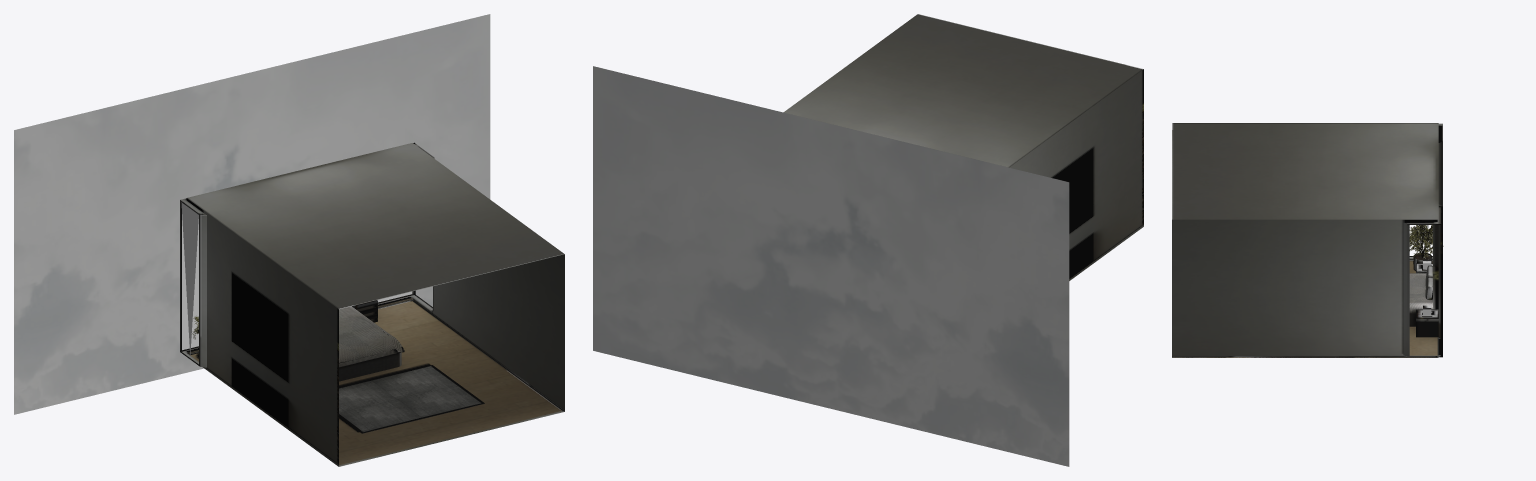
The model's file is int_bedroom_minimal.fbx.
3 renders of one model, left to right at view 1: azimuth 30°, elevation 25°; view 2: azimuth 150°, elevation 25°; view 3: azimuth 270°, elevation 25°, orthographic. The views are drawn at different scales.
Parts seen in each view (by area): view 1: int_bedroom_minimal; view 2: int_bedroom_minimal; view 3: int_bedroom_minimal.
Boxes of the visible parts, x1,y1,x2,y2 form: int_bedroom_minimal: [14, 14, 564, 466]; int_bedroom_minimal: [593, 14, 1143, 466]; int_bedroom_minimal: [1172, 123, 1443, 357].
Bounding box in the file's own units: 10.83 × 6.19 × 7.86.
Materials: 2 (2 with a texture image).
